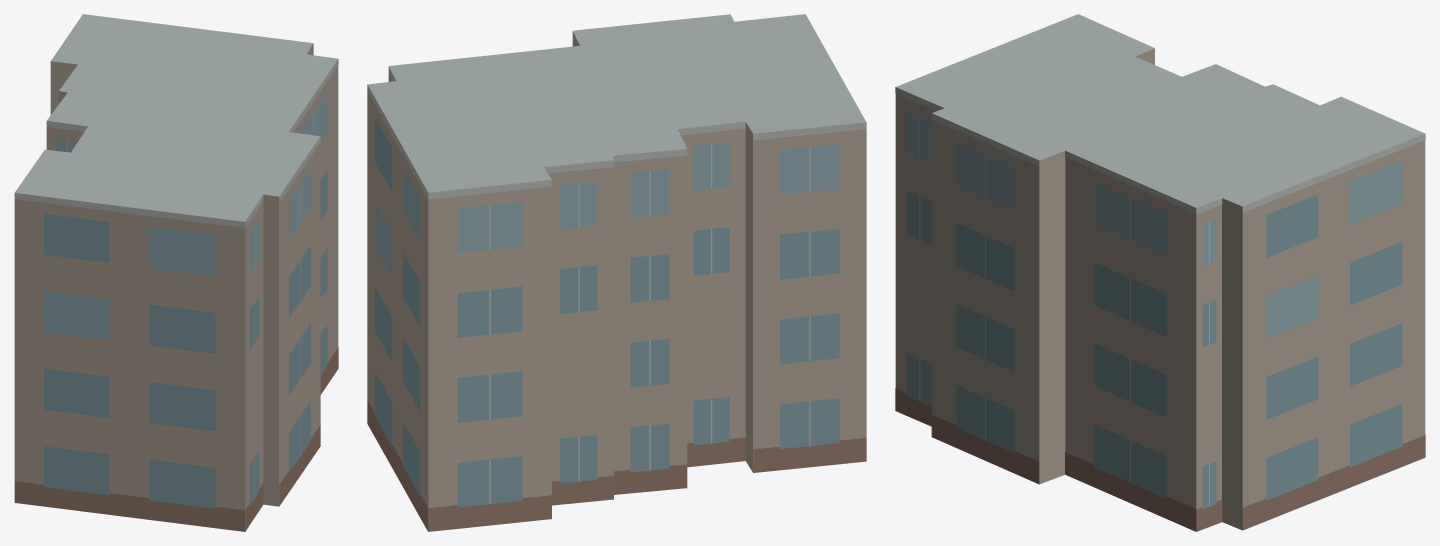
The model's file is survey-upis-32903222.glb.
3 renders of one model, left to right at view 1: azimuth 30°, elevation 25°; view 2: azimuth 150°, elevation 25°; view 3: azimuth 270°, elevation 25°, orthographic. The views are drawn at different scales.
Visible parts, largest first — view 1: survey-upis-32903222.tmp; view 2: survey-upis-32903222.tmp; view 3: survey-upis-32903222.tmp.
Boxes of the visible parts, x1,y1,x2,y2 form: survey-upis-32903222.tmp: (14, 14, 338, 531); survey-upis-32903222.tmp: (367, 14, 866, 531); survey-upis-32903222.tmp: (895, 14, 1425, 531).
Size of the model in its own units: 15.67 by 12.2 by 18.1.
